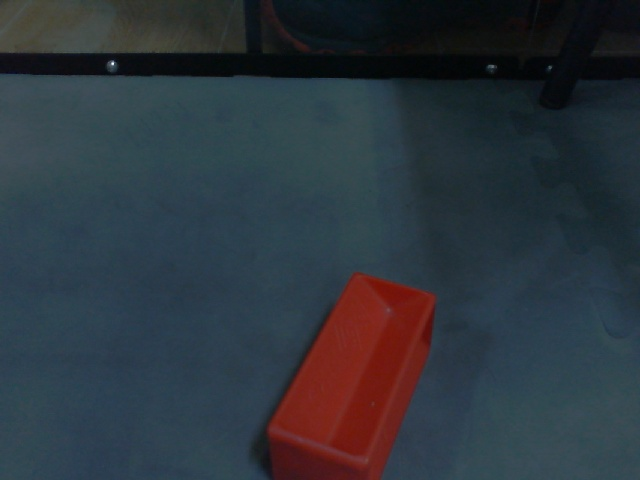RedSample: (261, 270, 439, 480)
